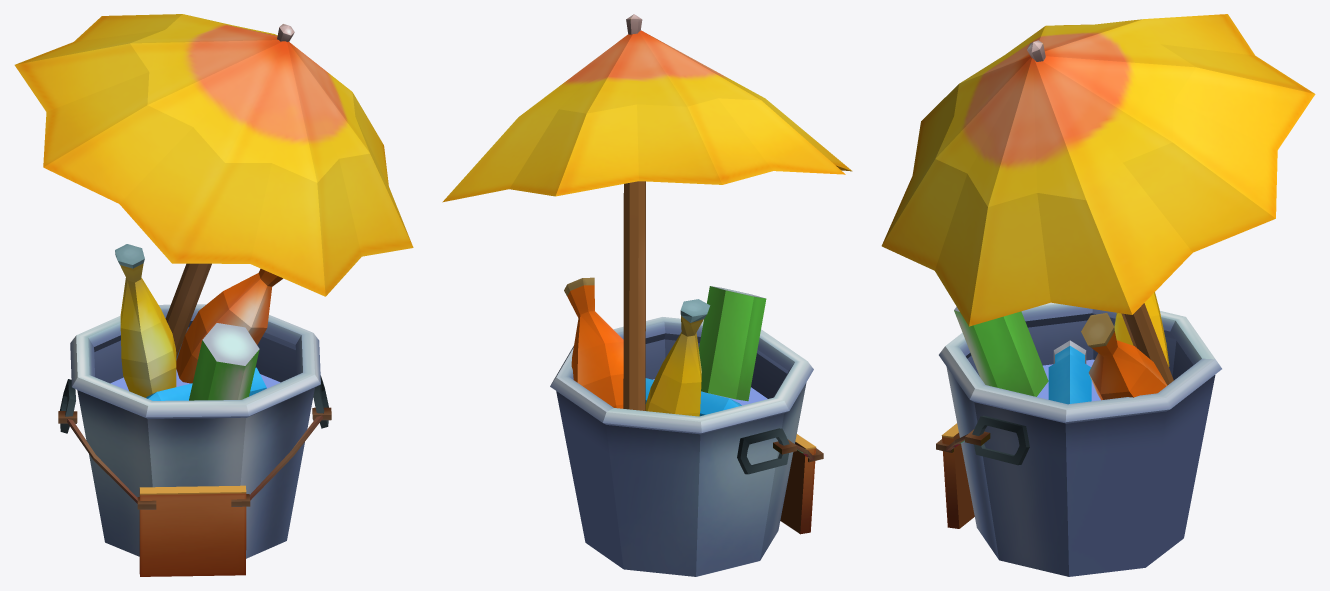
Rendered from Ceshichangji_XiaoShuiTong_01.FBX.
3 renders of one model, left to right at view 1: azimuth 30°, elevation 25°; view 2: azimuth 150°, elevation 25°; view 3: azimuth 270°, elevation 25°, orthographic. The views are drawn at different scales.
Visible parts, largest first — view 1: Object012; view 2: Object012; view 3: Object012.
Boxes of the visible parts, x1,y1,x2,y2 form: Object012: [14, 14, 413, 576]; Object012: [442, 14, 852, 576]; Object012: [881, 14, 1315, 576].
Bounding box in the file's own units: 286 × 366 × 273.
